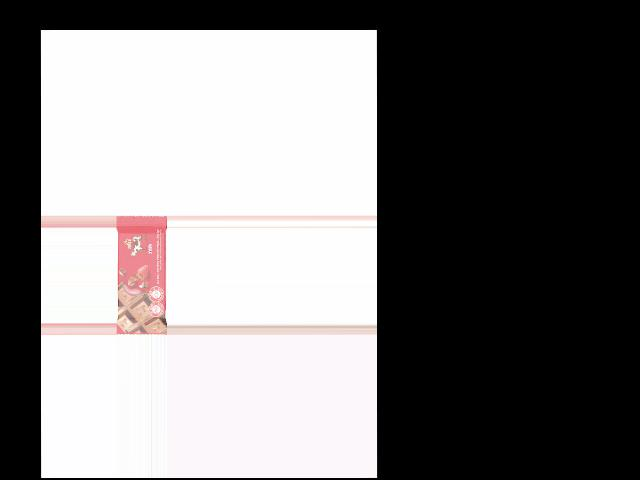chocolate: (117, 215, 167, 333)
